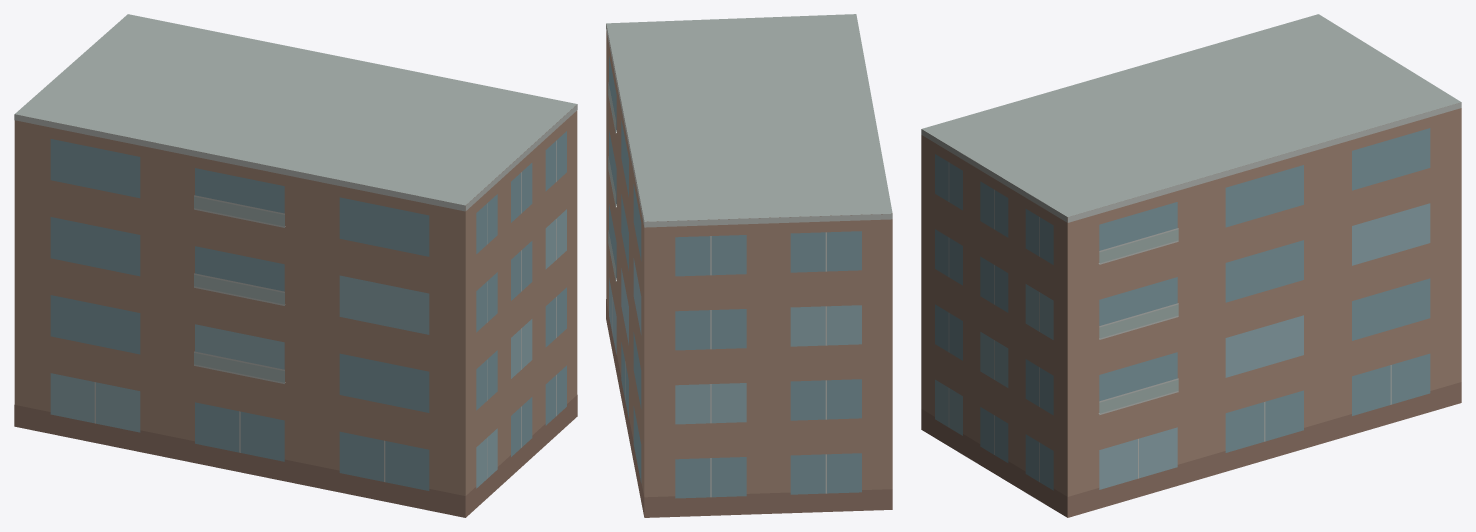
File: survey-upis-32824964.glb
3 renders of one model, left to right at view 1: azimuth 30°, elevation 25°; view 2: azimuth 150°, elevation 25°; view 3: azimuth 270°, elevation 25°, orthographic. The views are drawn at different scales.
Visible parts, largest first — view 1: survey-upis-32824964.tmp; view 2: survey-upis-32824964.tmp; view 3: survey-upis-32824964.tmp.
Part boxes in pixels (x1,y1,x2,y2): survey-upis-32824964.tmp: (14,14,577,517); survey-upis-32824964.tmp: (606,14,892,517); survey-upis-32824964.tmp: (921,14,1461,517).
Size of the model in its own units: 18.42 by 12.7 by 20.69.
